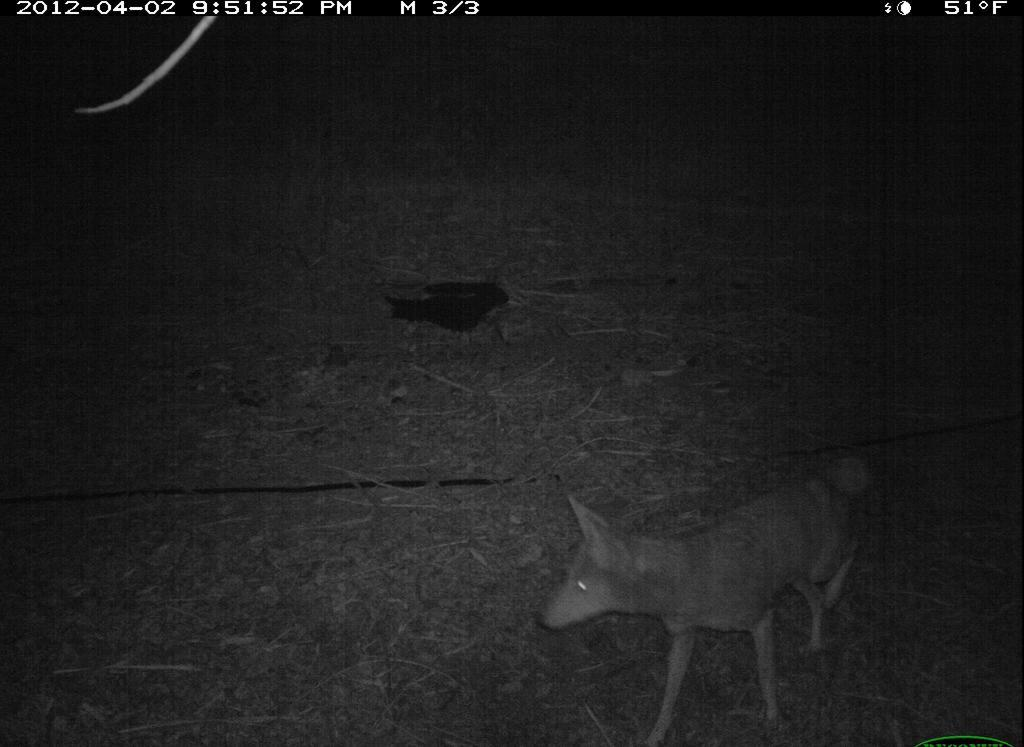coyote: (516, 432, 902, 712)
